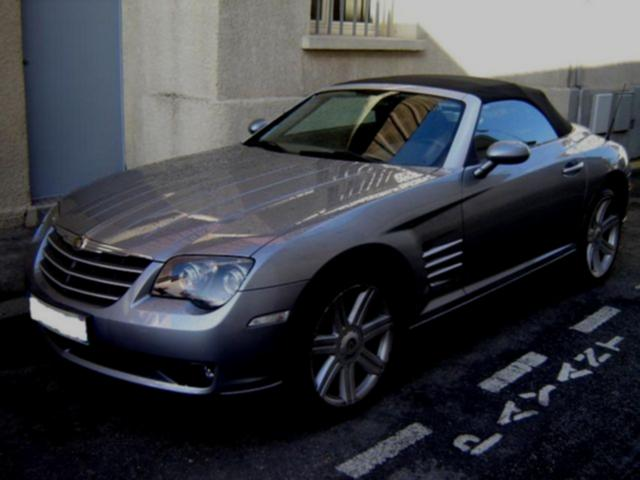Chrysler: (45, 216, 137, 265)
